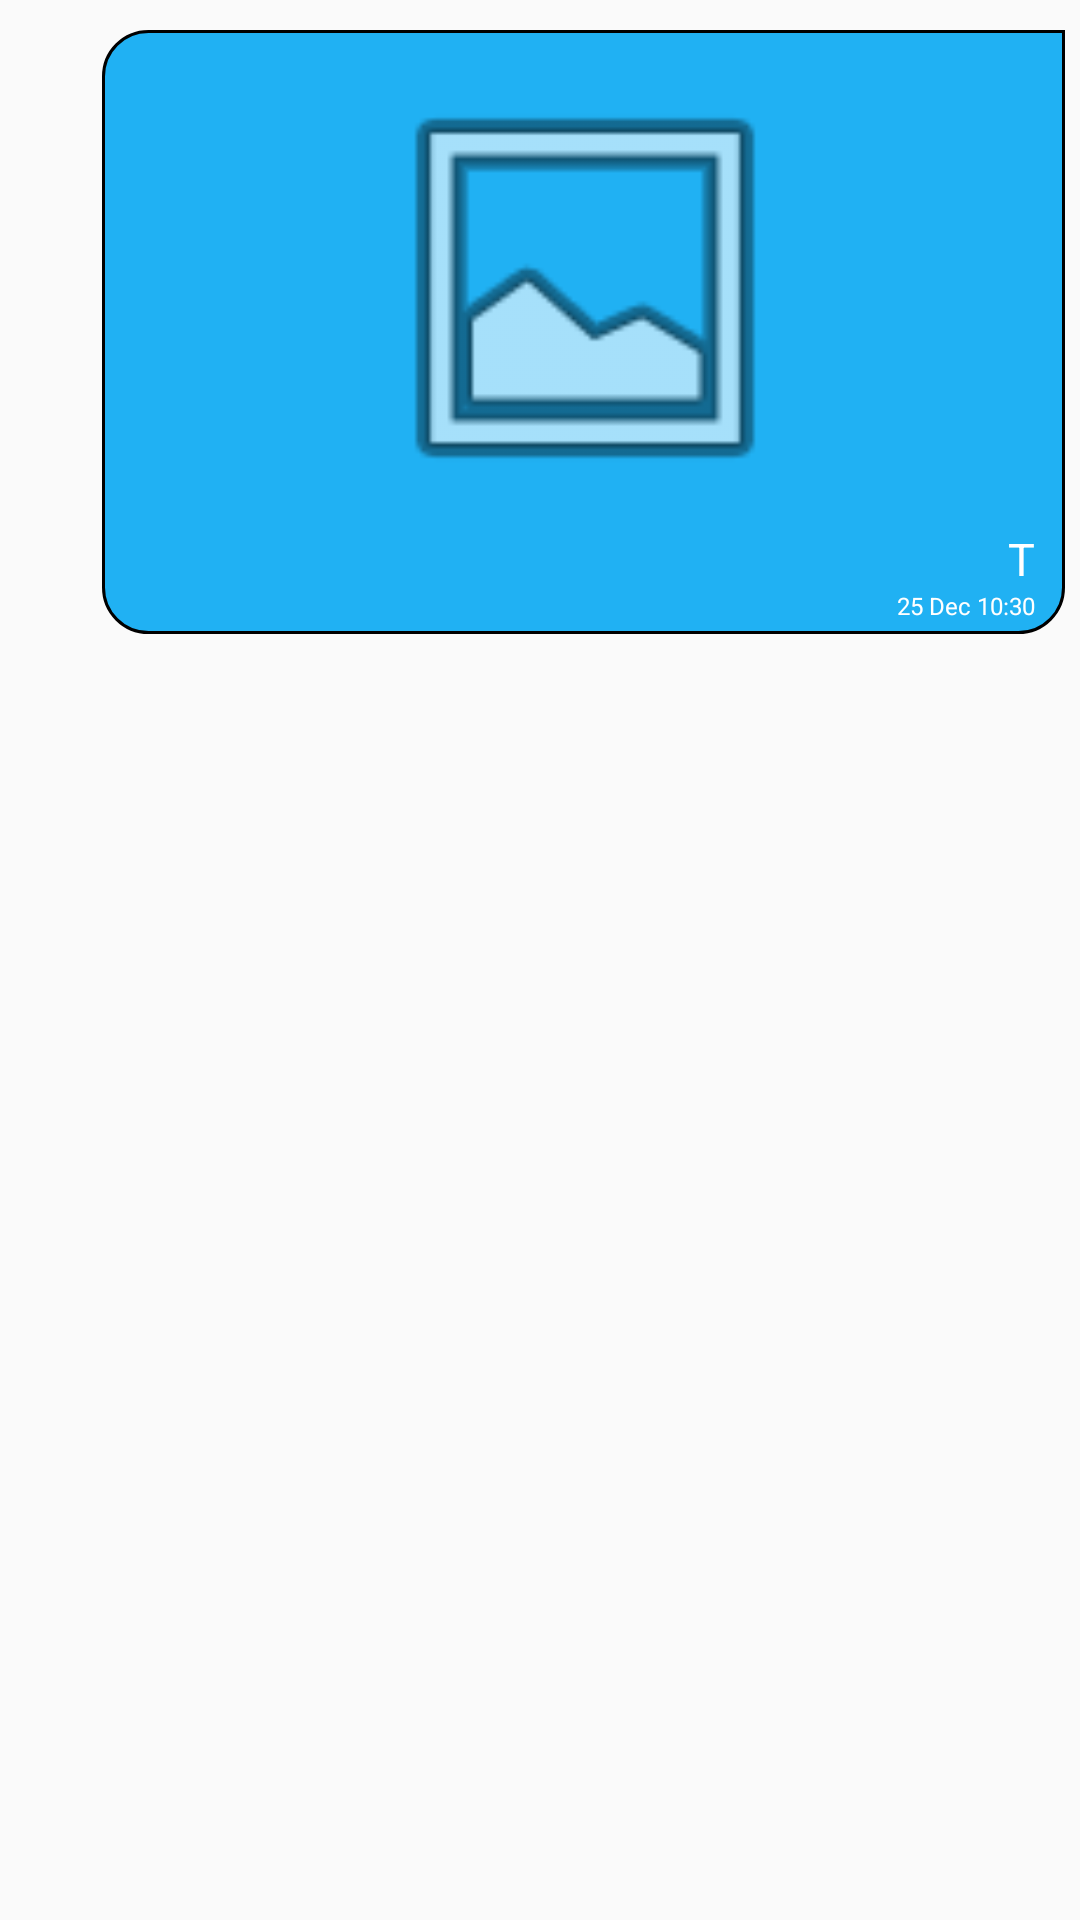

Named icons in this screenshot (1080*1920) and their centers, [x,y]:
gallery: [585,288]
